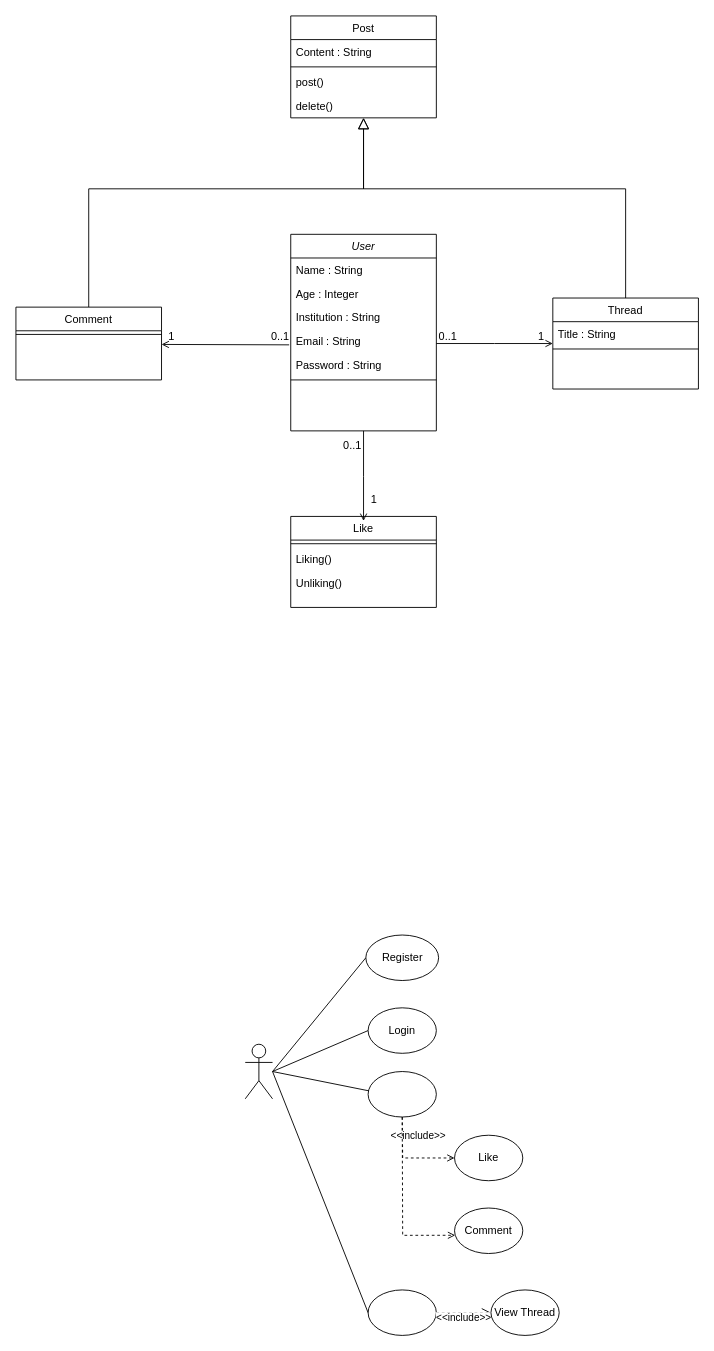
The diagram is 714 pixels wide and 1351 high, and some of its shapes have lost their labels. Each missing label, with the centre of its shape:
"Actor" belongs at (258,1071).
"Post Thread" belongs at (401,1094).
"Select Institution" belongs at (401,1312).
